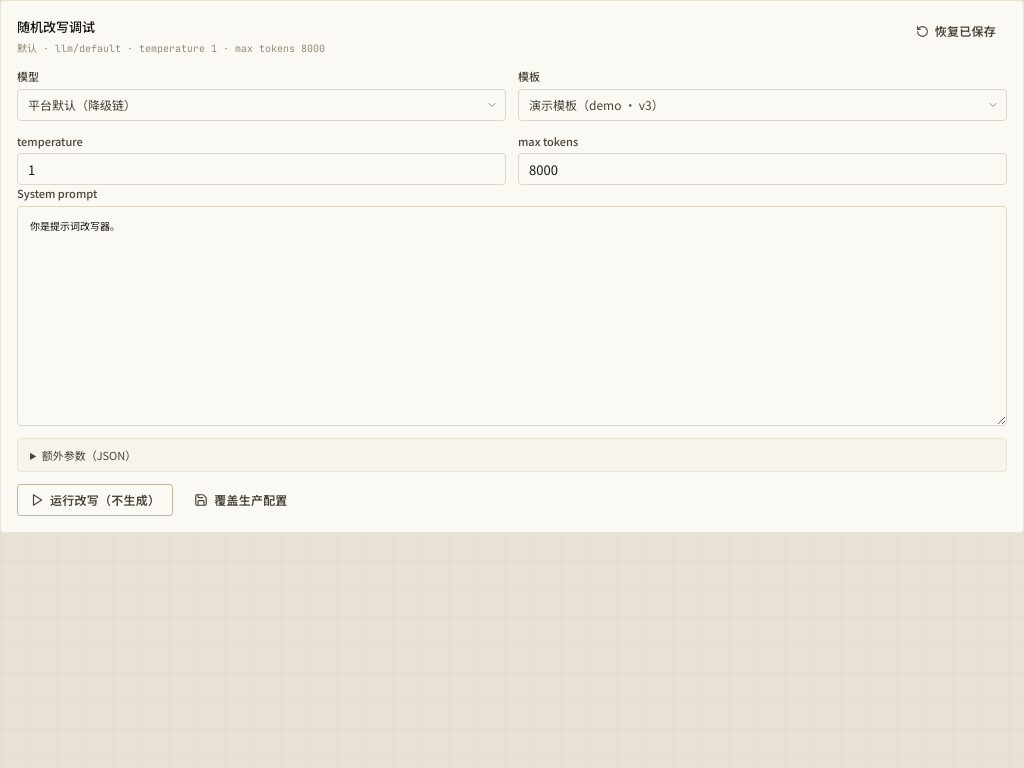
Test case: 随机改写调试面板 › 额外参数不是合法 JSON 时不发请求
The image size is (1024, 768).
Click the heading "额外参数（JSON）" at (89, 455), box left=42, top=447, right=136, bottom=463
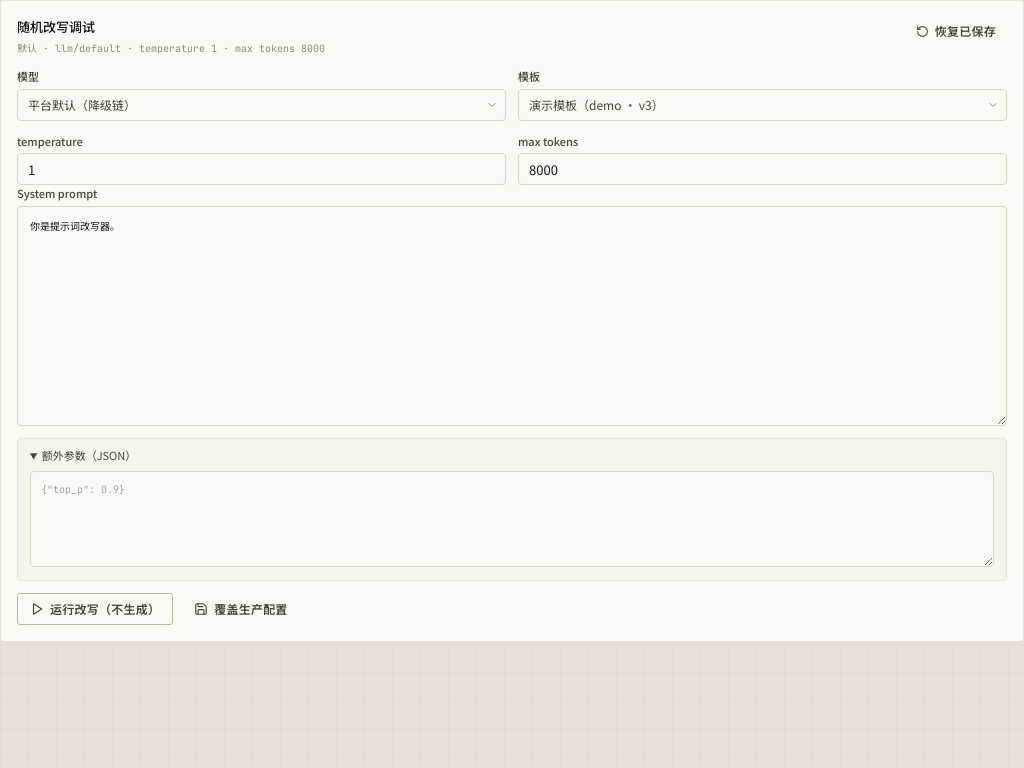
Click the text box named "额外参数（JSON）" at (512, 519), box left=30, top=471, right=994, bottom=567
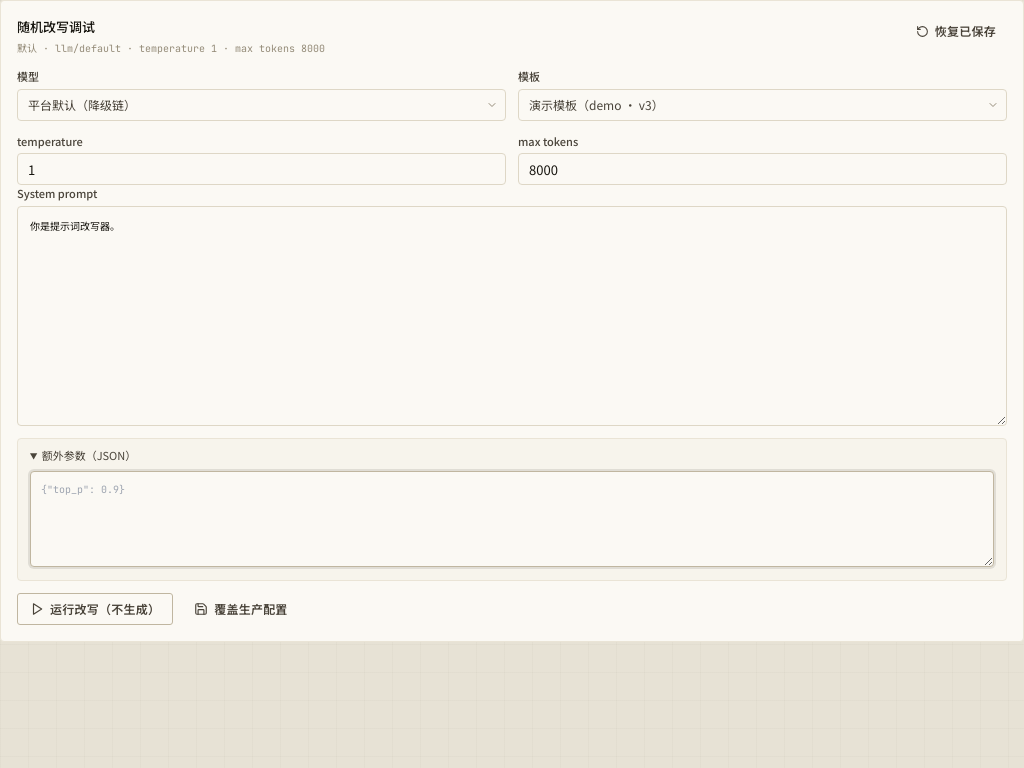
Type keys "{bad"
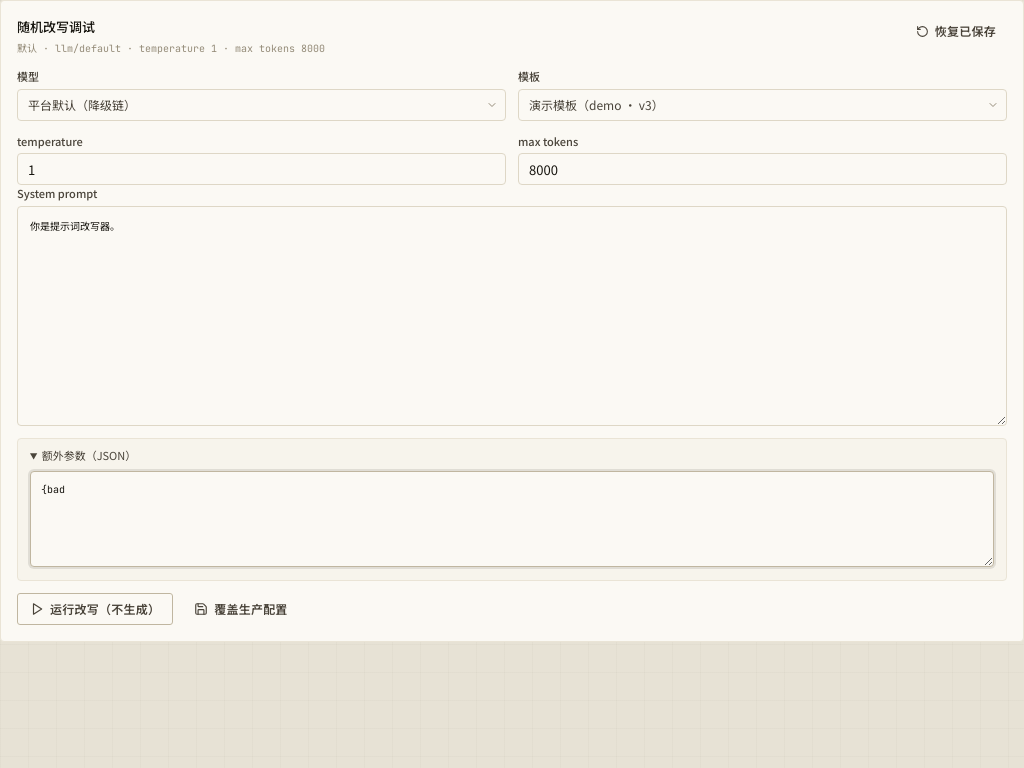
Click the button "运行改写（不生成）" at (95, 609), box left=17, top=593, right=173, bottom=625
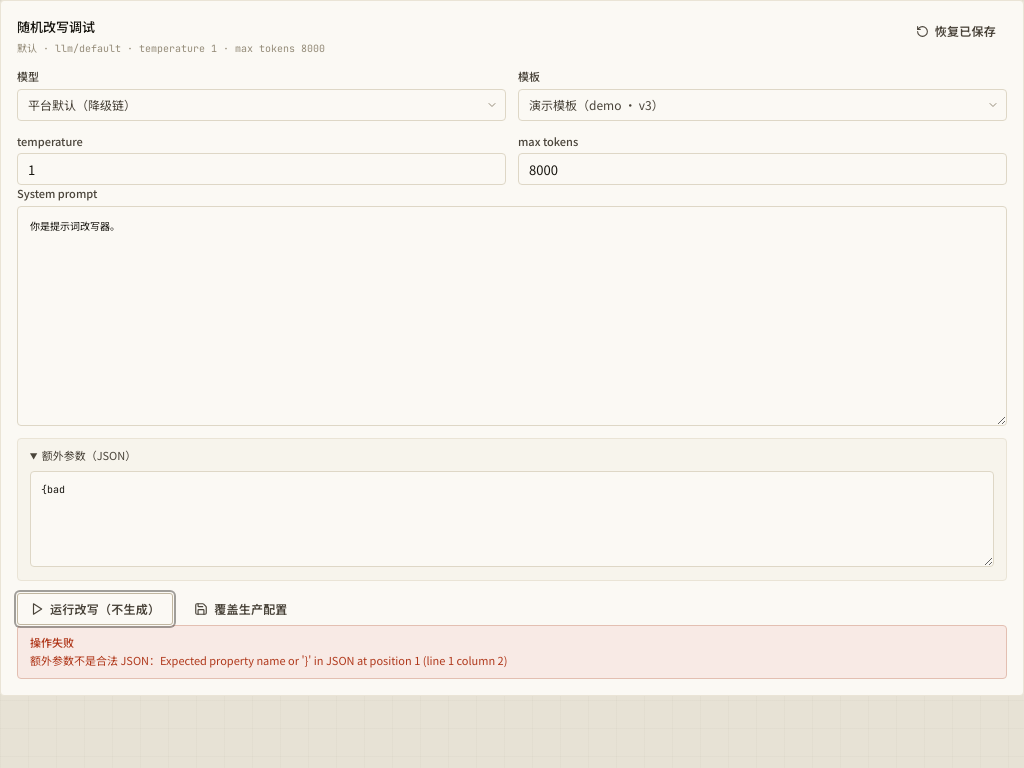
Expected: the text "不是合法 JSON" is shown, left=30, top=652, right=507, bottom=668
